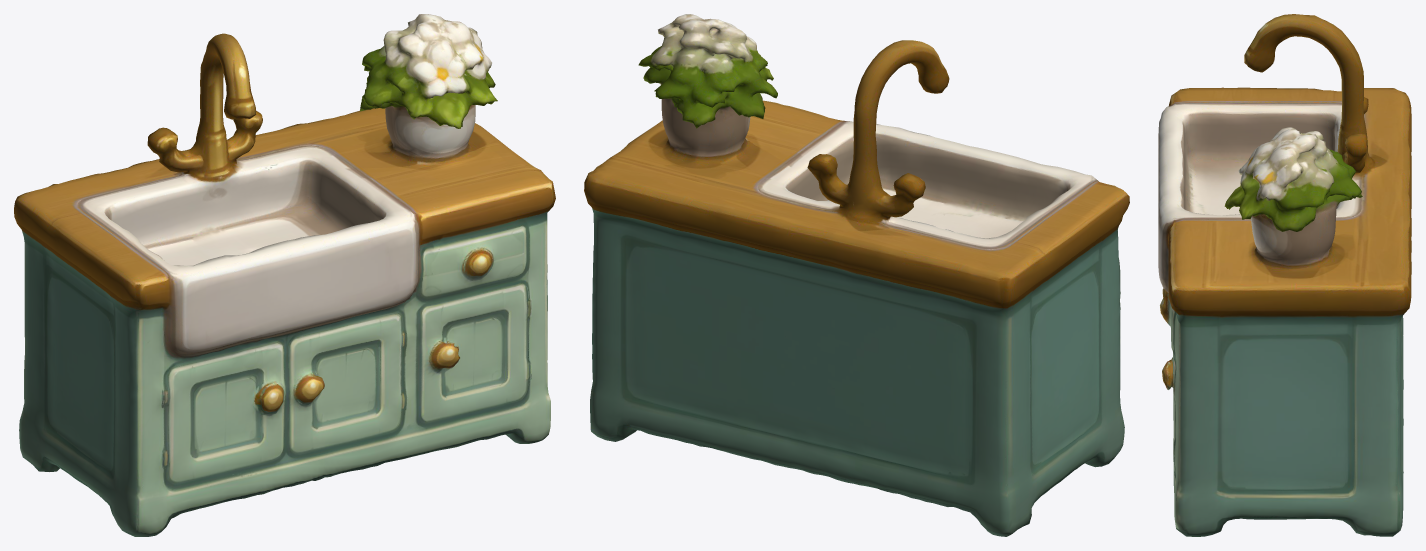
Rendered from Green_kitchen_sink.glb.
3 views of the same model, side by side, from view 1: azimuth 30°, elevation 25°; view 2: azimuth 150°, elevation 25°; view 3: azimuth 270°, elevation 25° (orthographic). The views are drawn at different scales.
Visible parts, largest first — view 1: RETOPO; view 2: RETOPO; view 3: RETOPO.
Boxes of the visible parts, box(x1,y1,x2,y2) form: RETOPO: box(14, 14, 555, 536); RETOPO: box(584, 14, 1129, 536); RETOPO: box(1158, 14, 1411, 536).
Size of the model in its own units: 0.8429 by 0.7928 by 0.4503.
1 material, 1 textured.
